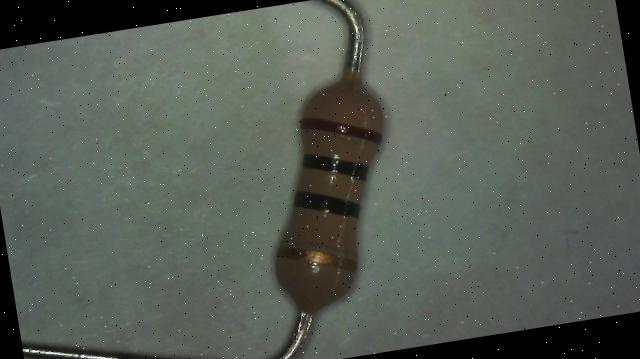black: (292, 181, 362, 226), (302, 145, 371, 188)
brown: (298, 106, 383, 155)
gold: (280, 237, 356, 280)
resistor: (247, 60, 406, 342)
